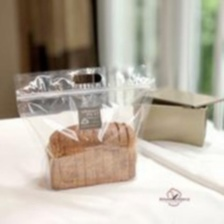snack: (8, 58, 162, 199)
